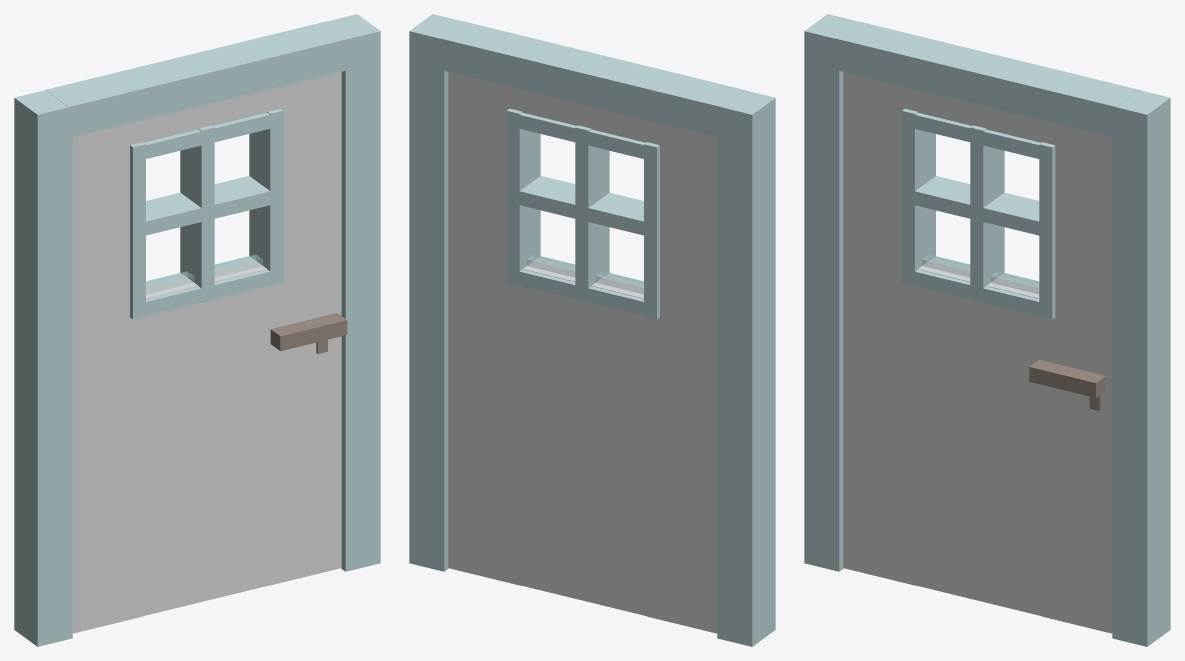
File: kapı 1.2.2.fbx
3 views of the same model, side by side, from view 1: azimuth 30°, elevation 25°; view 2: azimuth 150°, elevation 25°; view 3: azimuth 330°, elevation 25° (orthographic).
Parts seen in each view (by area): view 1: pCube33; view 2: pCube33; view 3: pCube33.
Part boxes in pixels (x1,y1,x2,y2): pCube33: [14, 14, 380, 646]; pCube33: [409, 14, 775, 646]; pCube33: [804, 14, 1170, 646].
Bounding box in the file's own units: 909 × 1348 × 148.
